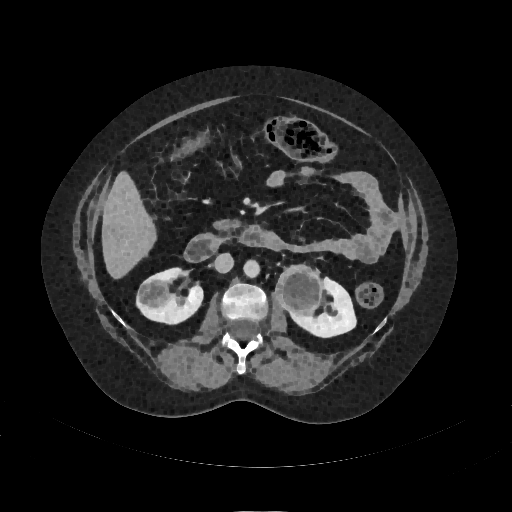Lesion: (274, 261, 329, 318)
